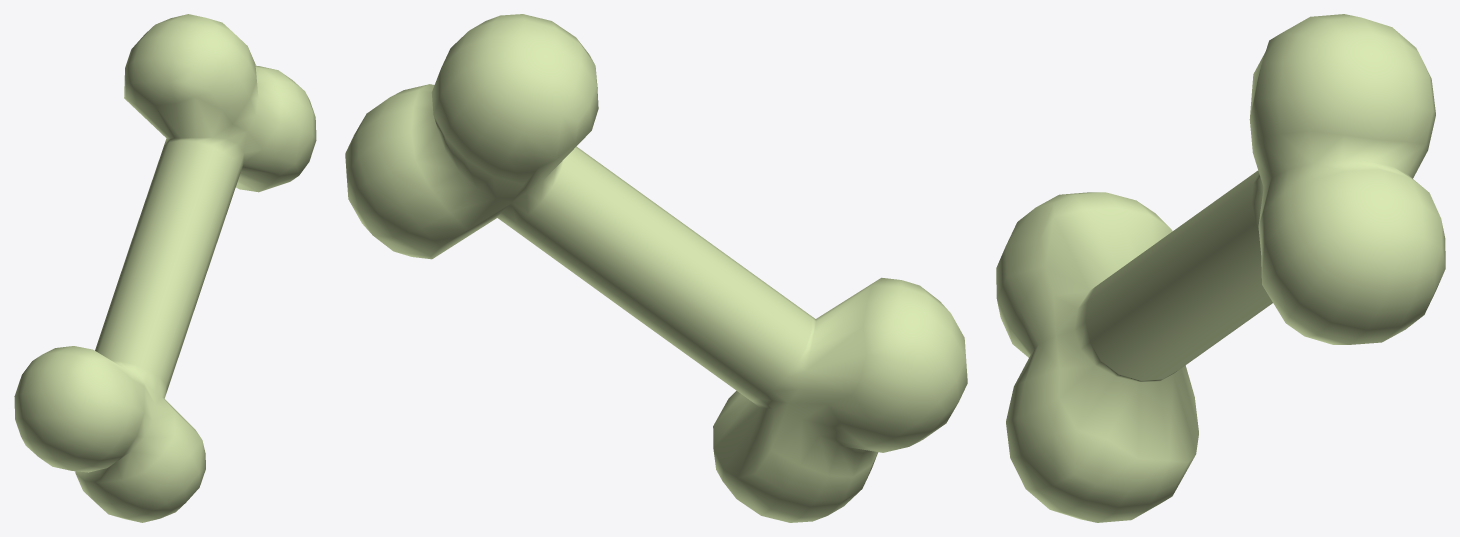
Rendered from SM_Bone.fbx.
3 renders of one model, left to right at view 1: azimuth 30°, elevation 25°; view 2: azimuth 150°, elevation 25°; view 3: azimuth 270°, elevation 25°, orthographic. The views are drawn at different scales.
Visible parts, largest first — view 1: Bone; view 2: Bone; view 3: Bone.
Boxes of the visible parts, left/top/right/bottom form: Bone: left=14, top=14, right=316, bottom=522; Bone: left=345, top=14, right=967, bottom=522; Bone: left=996, top=14, right=1445, bottom=522.
Size of the model in its own units: 75.41 by 77.88 by 53.95.
